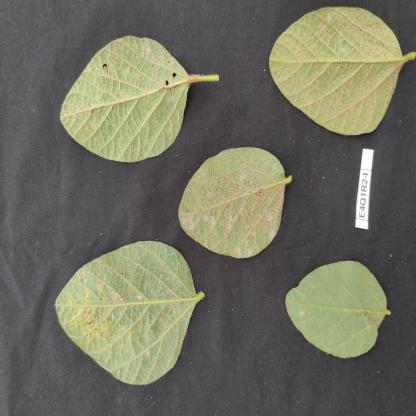label: (355, 150, 376, 236)
leaflets: (49, 238, 202, 383), (272, 1, 414, 144), (51, 26, 190, 164), (282, 253, 391, 373), (178, 145, 287, 257)
